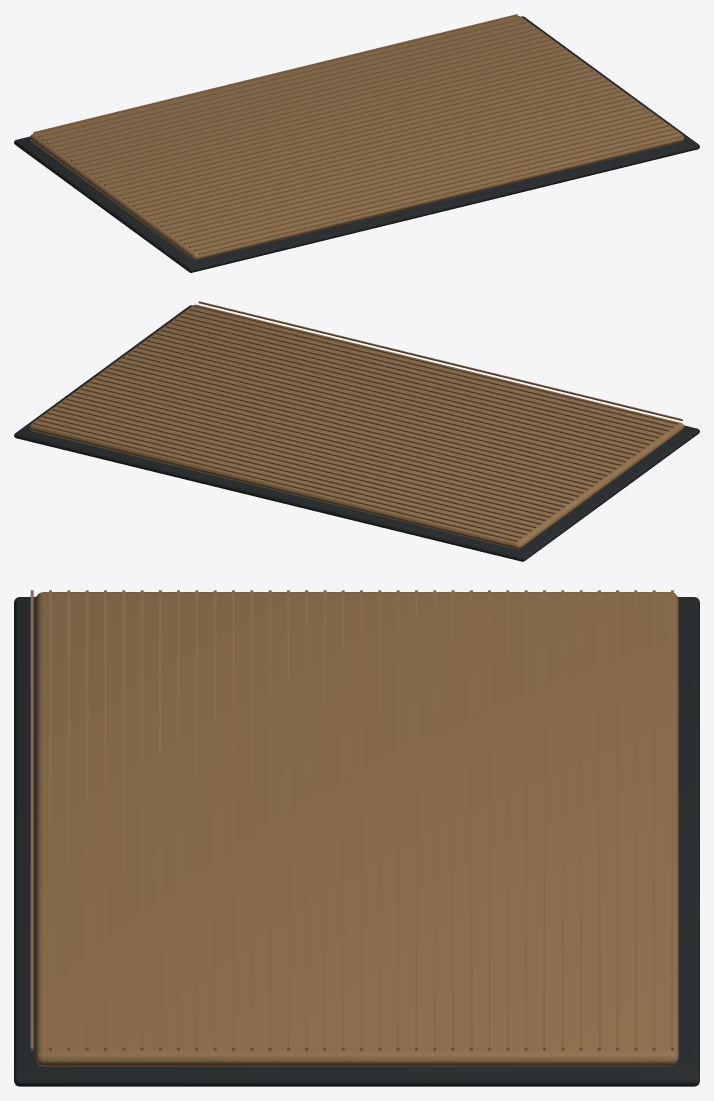
The model's file is felpudo_coco_base.glb.
The picture shows the model from 3 angles, top to bottom: view 1: azimuth 30°, elevation 25°; view 2: azimuth 150°, elevation 25°; view 3: azimuth 270°, elevation 25°; orthographic projection. The views are drawn at different scales.
Parts seen in each view (by area): view 1: felpudo_coco_base; view 2: felpudo_coco_base; view 3: felpudo_coco_base.
Part boxes in pixels (bbox=[...]): felpudo_coco_base: bbox=[14, 14, 699, 272]; felpudo_coco_base: bbox=[14, 301, 699, 561]; felpudo_coco_base: bbox=[14, 590, 699, 1086].
Size of the model in its own units: 0.75 by 0.02 by 0.45.
